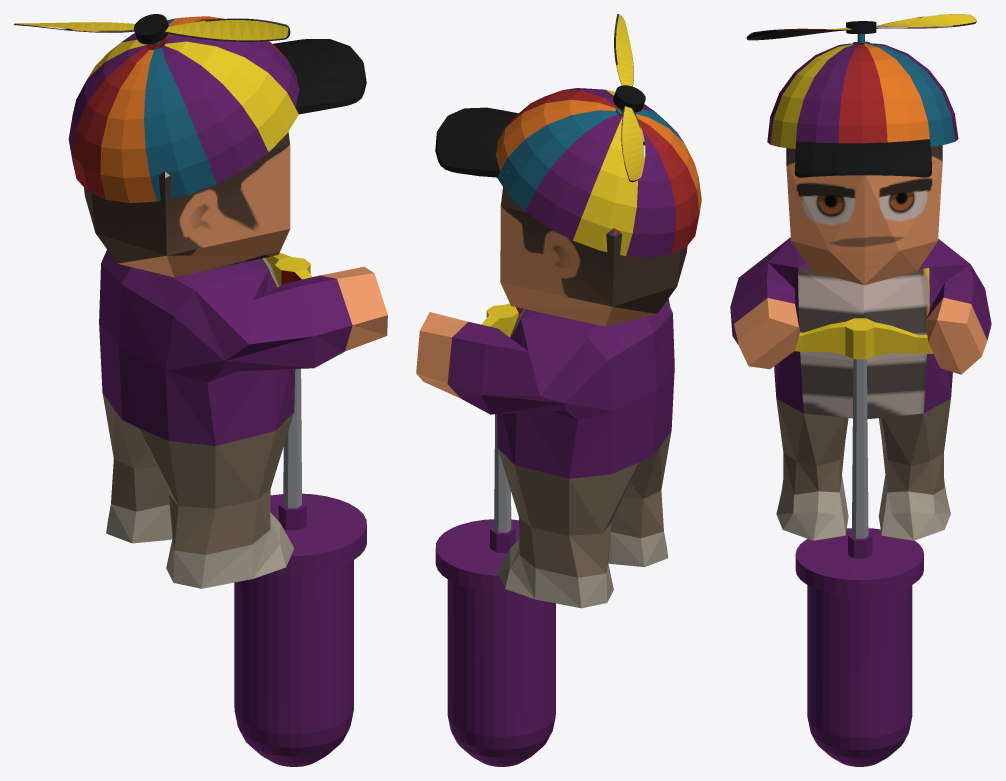
The model's file is PurplePogger.fbx.
3 renders of one model, left to right at view 1: azimuth 30°, elevation 25°; view 2: azimuth 150°, elevation 25°; view 3: azimuth 270°, elevation 25°, orthographic. The views are drawn at different scales.
Visible parts, largest first — view 1: ValjdaRadi; view 2: ValjdaRadi; view 3: ValjdaRadi.
Boxes of the visible parts, x1,y1,x2,y2 form: ValjdaRadi: [14, 14, 387, 766]; ValjdaRadi: [416, 14, 701, 766]; ValjdaRadi: [730, 14, 991, 766].
Bounding box in the file's own units: 0.3619 × 0.986 × 0.3328.
1 material, 1 textured.
